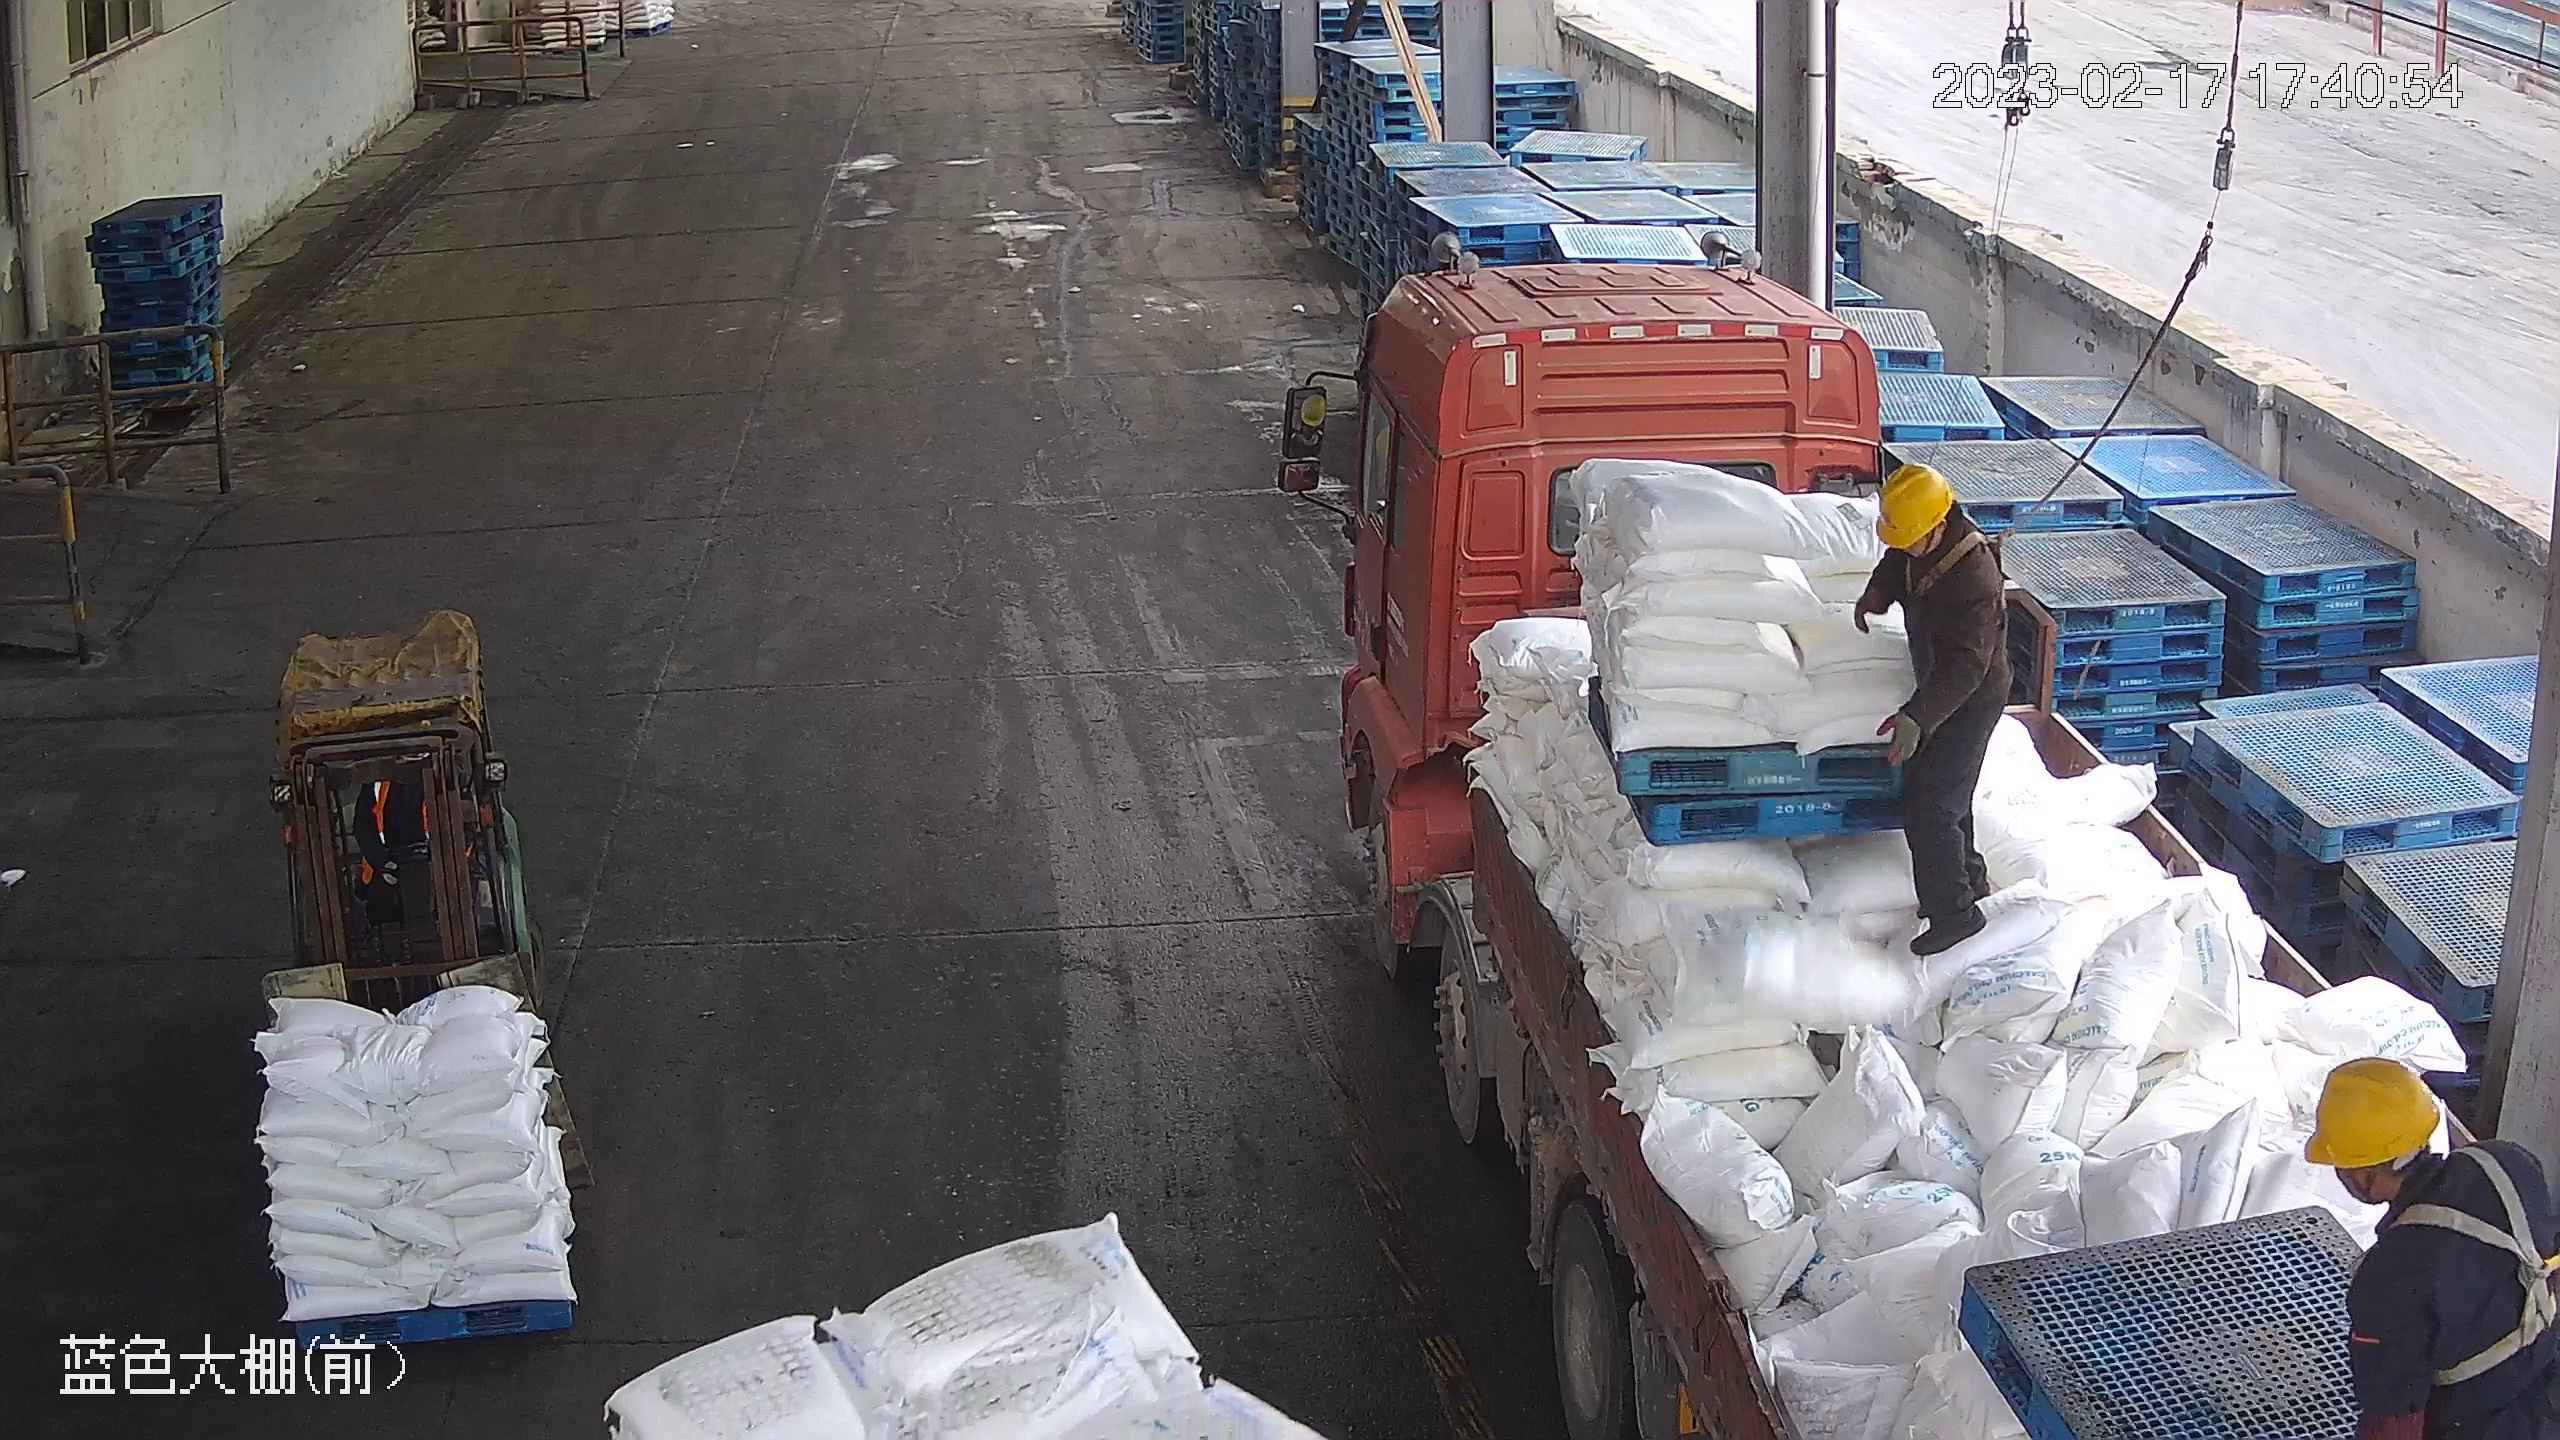belt: (2403, 1140, 2560, 1389), (1902, 506, 2011, 595)
head: (2300, 1053, 2558, 1361), (1863, 460, 2009, 603)
helmet: (2298, 1055, 2441, 1165), (1876, 462, 1953, 546)
people: (1857, 462, 2011, 960)
truck: (1278, 253, 2560, 1436)
